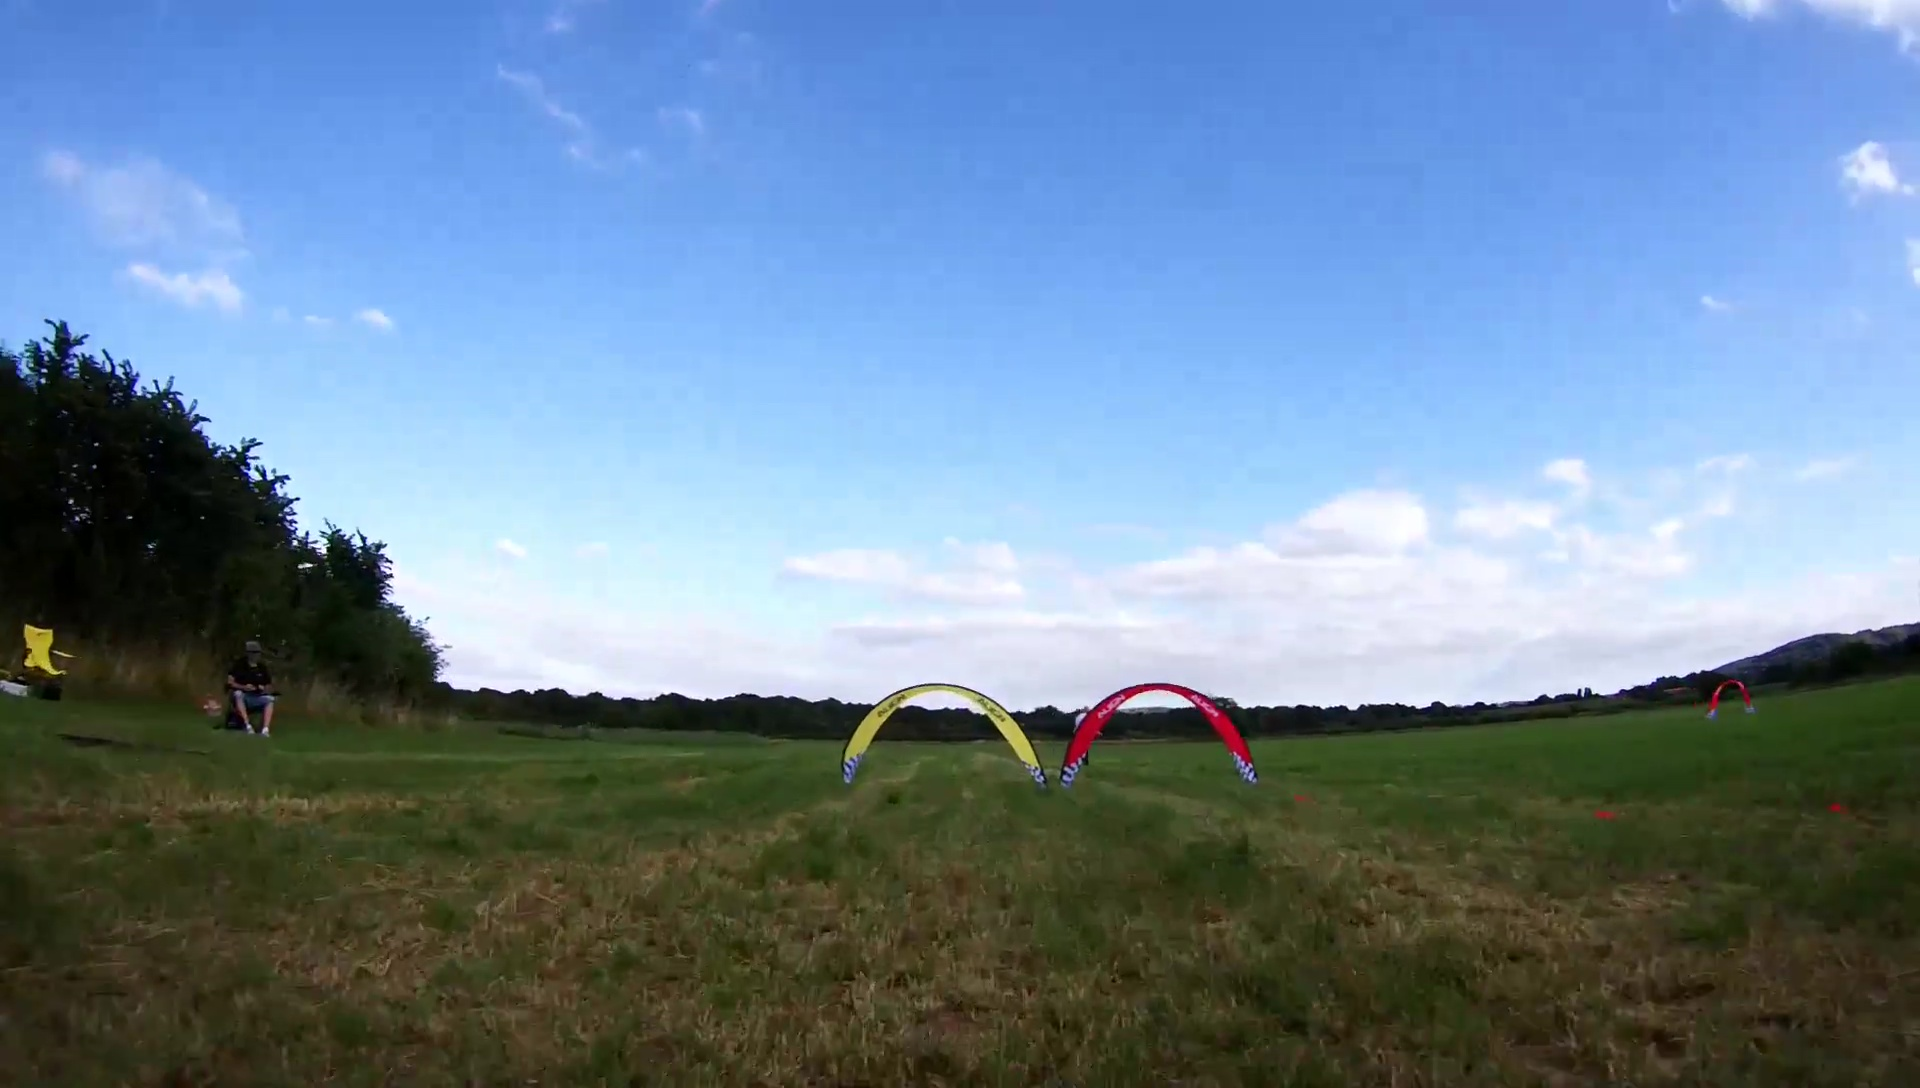gate: (836, 682, 1052, 793), (1058, 680, 1263, 785), (1706, 678, 1756, 720)
